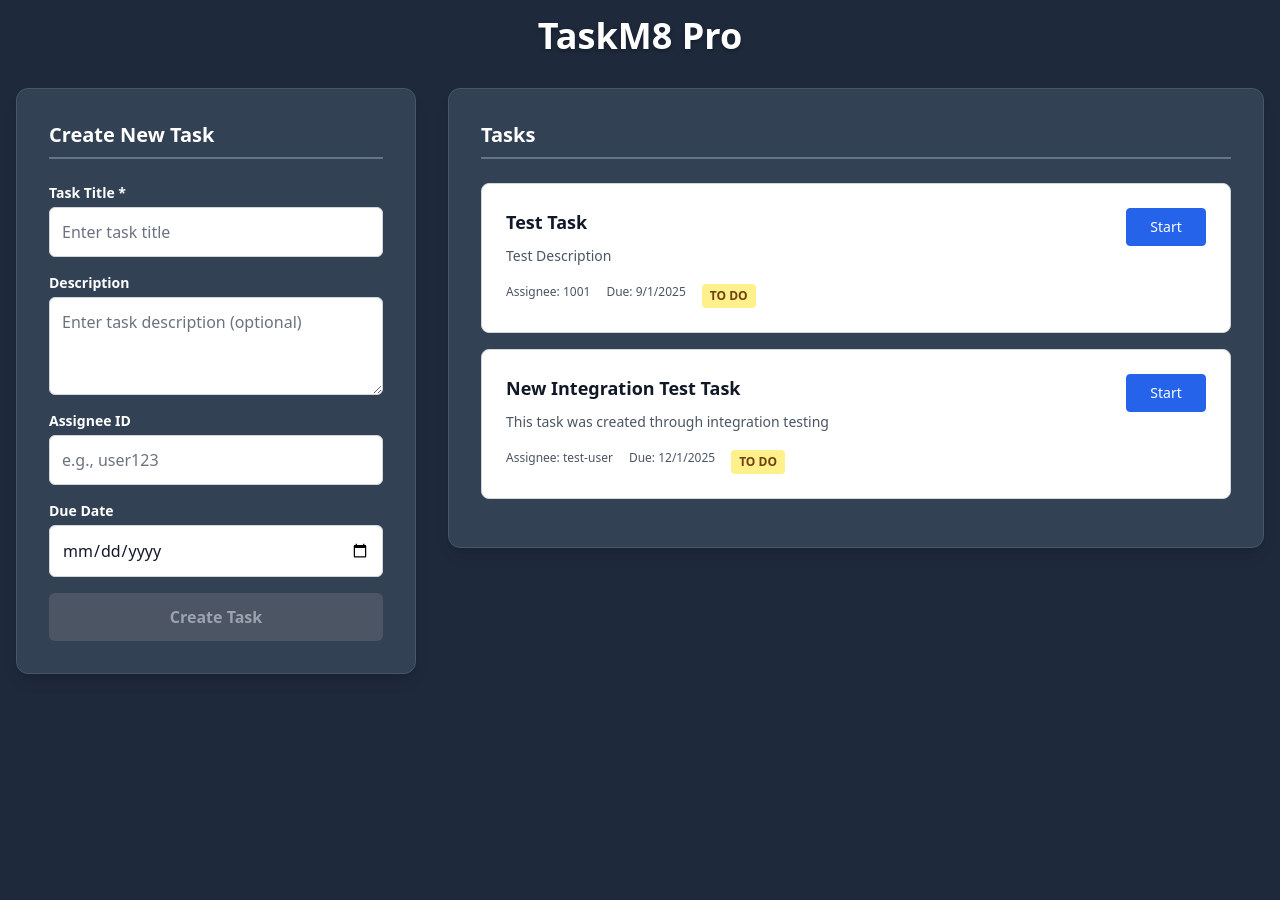
Scenario: App Integration Tests › should update task status through task interactions
This screenshot has width=1280, height=900.
Expected: the heading "Test Task" is shown, x1=506 y1=210 x2=587 y2=234
# Find the first "Start" button (use getAllByRole and select the first one)
Click the 1st button "Start". click: (1166, 227)
box: x1=1126 y1=208 x2=1206 y2=246
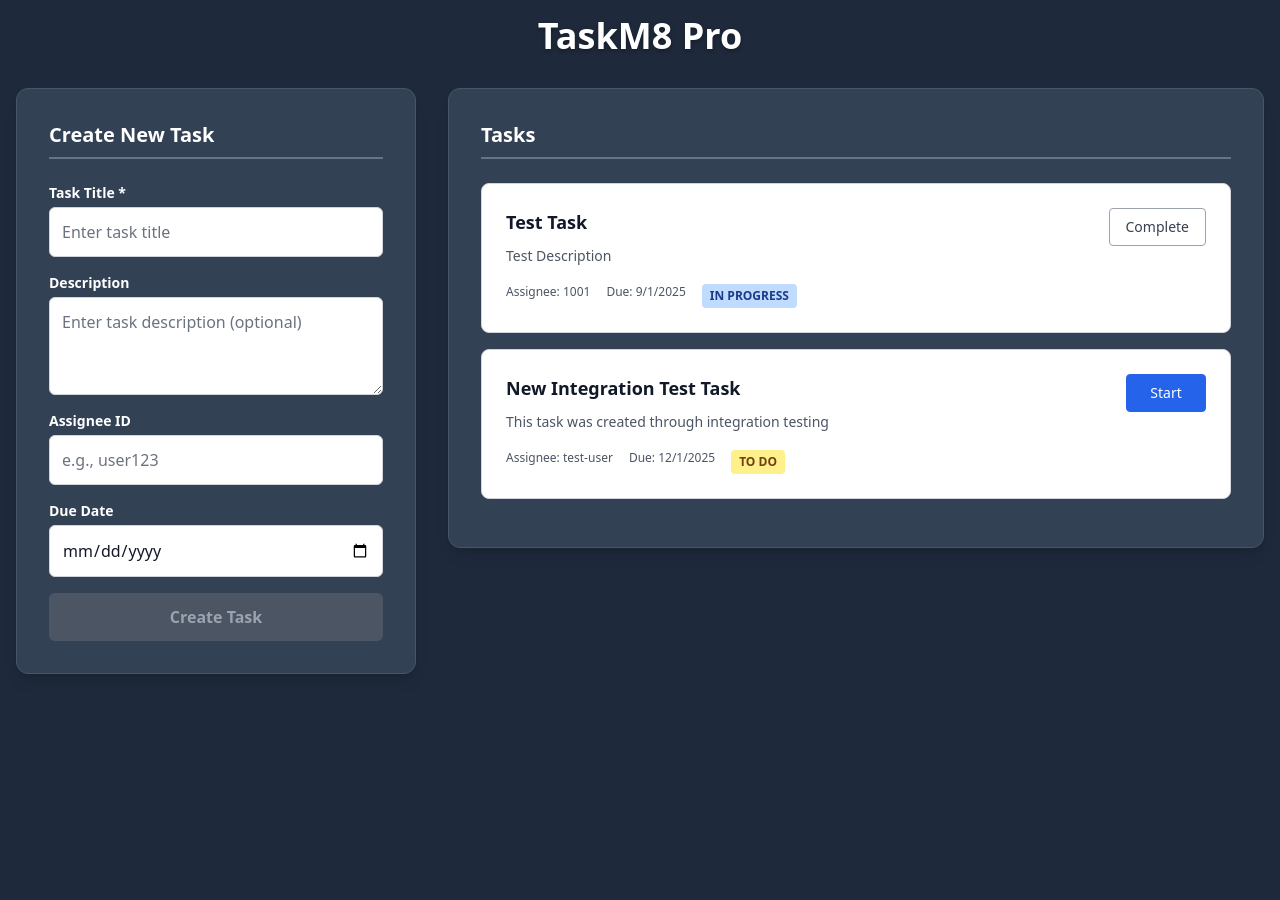
Now the button "Complete" is shown, box x1=1108 y1=208 x2=1206 y2=246
